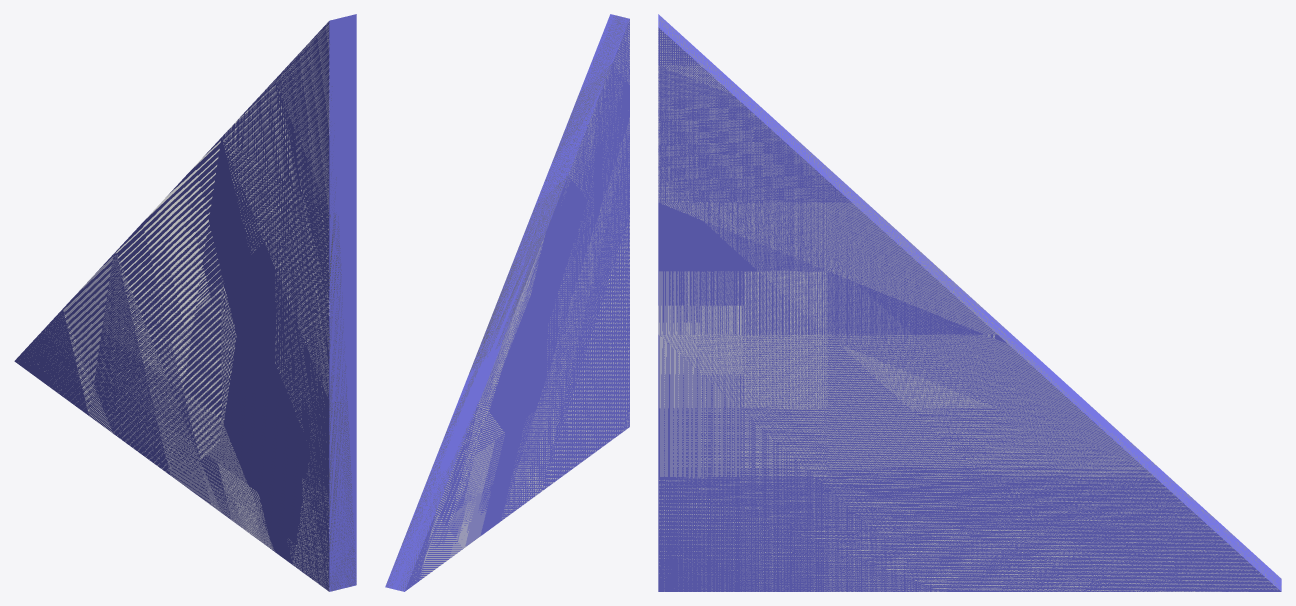
Rendered from SM_Dummy_Sloped_Wall_Left.fbx.
The picture shows the model from 3 angles, left to right: view 1: azimuth 30°, elevation 25°; view 2: azimuth 150°, elevation 25°; view 3: azimuth 270°, elevation 25°; orthographic projection. The views are drawn at different scales.
Visible parts, largest first — view 1: SM_Dummy_Sloped_Wall_Left, SM_Dummy_Sloped_Wall_Left_ConvexHulls; view 2: SM_Dummy_Sloped_Wall_Left, SM_Dummy_Sloped_Wall_Left_ConvexHulls; view 3: SM_Dummy_Sloped_Wall_Left, SM_Dummy_Sloped_Wall_Left_ConvexHulls.
Boxes of the visible parts, box(x1,y1,x2,y2) form: SM_Dummy_Sloped_Wall_Left: box(14, 14, 356, 591); SM_Dummy_Sloped_Wall_Left_ConvexHulls: box(38, 22, 356, 591); SM_Dummy_Sloped_Wall_Left: box(385, 14, 629, 591); SM_Dummy_Sloped_Wall_Left_ConvexHulls: box(386, 15, 629, 590); SM_Dummy_Sloped_Wall_Left: box(658, 14, 1281, 591); SM_Dummy_Sloped_Wall_Left_ConvexHulls: box(658, 16, 1281, 591).
Bounding box in the file's own units: 15 × 300 × 300.
Materials: 2 (1 with a texture image).
